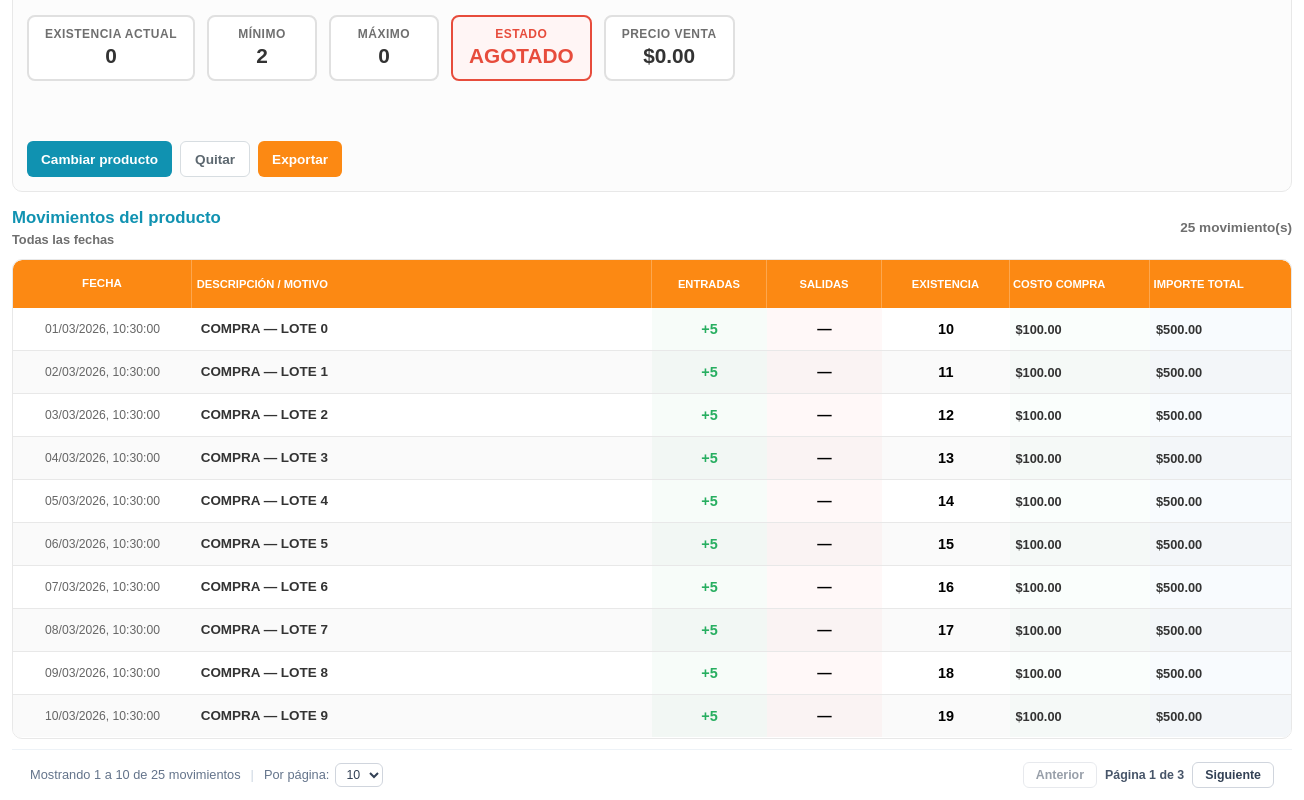
Scenario: KardexProductPanel › avanza y retrocede entre paginas
Step 1. Click the button "Siguiente" → click(1233, 775), box [1192,762,1274,788]
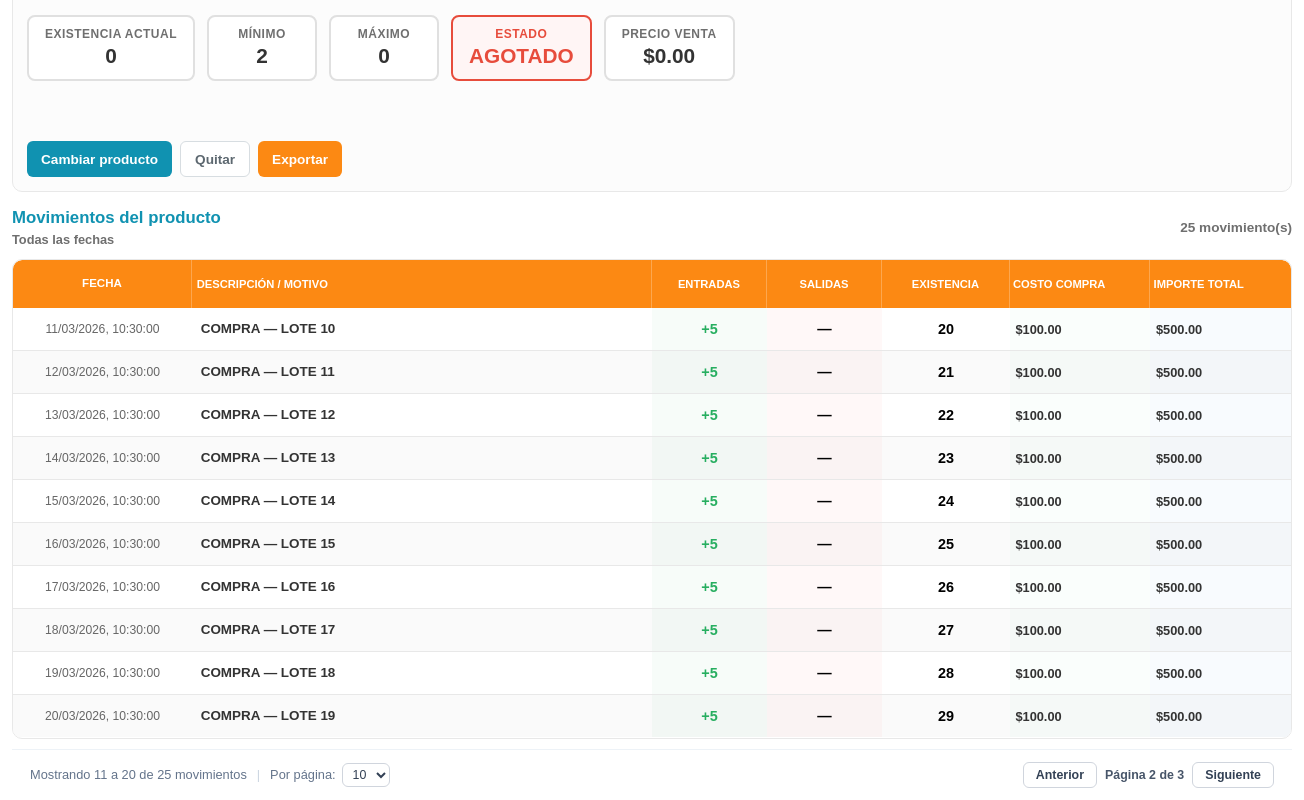
Expected: the text "Página 2 de 3" is shown, [1105,768,1184,782]
Expected: the text "COMPRA — LOTE 10" is shown, [192,308,652,351]
Expected: the text "Mostrando 11 a 20 de 25 movimientos" is shown, [30,767,247,782]
Step 2. Click the button "Anterior" → click(1060, 775), box [1023,762,1097,788]
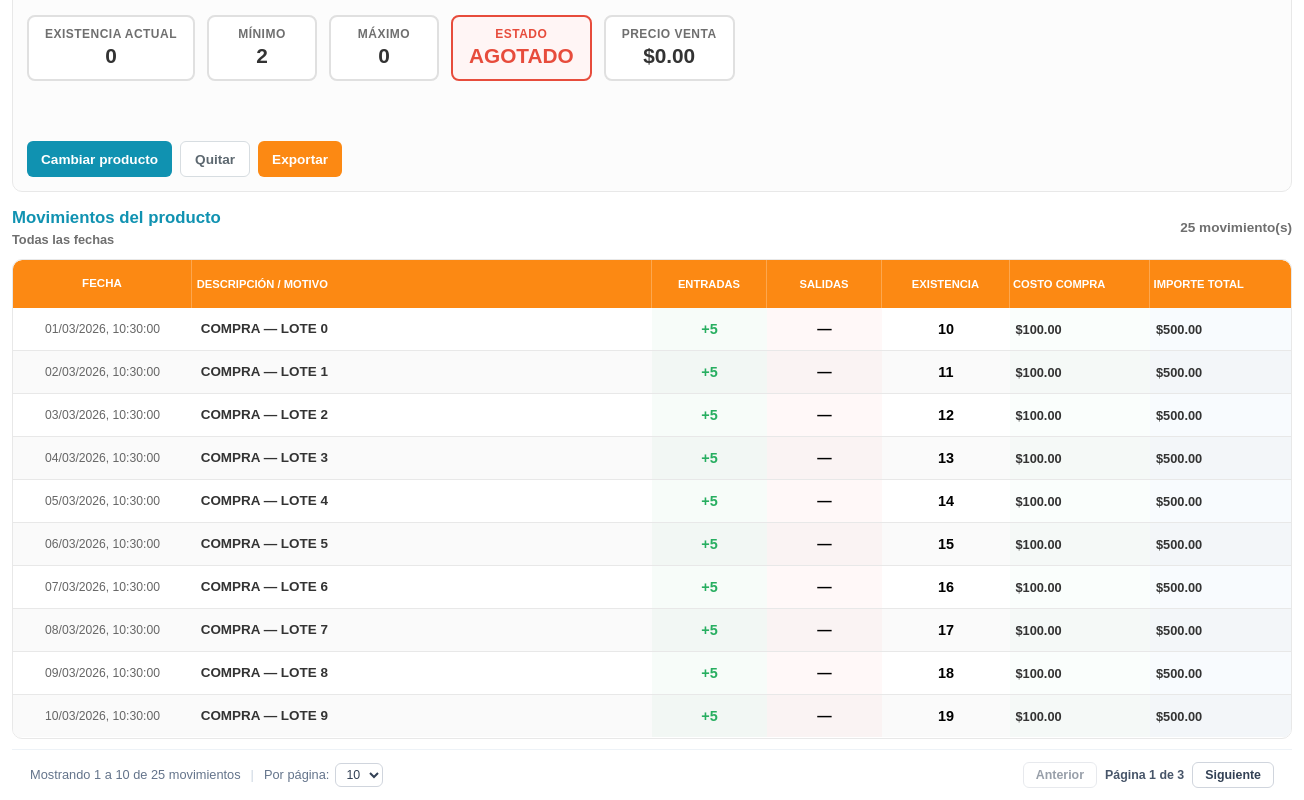
Expected: the text "Página 1 de 3" is shown, [1105,768,1184,782]
Expected: the text "COMPRA — LOTE 0" is shown, [192,308,652,351]
